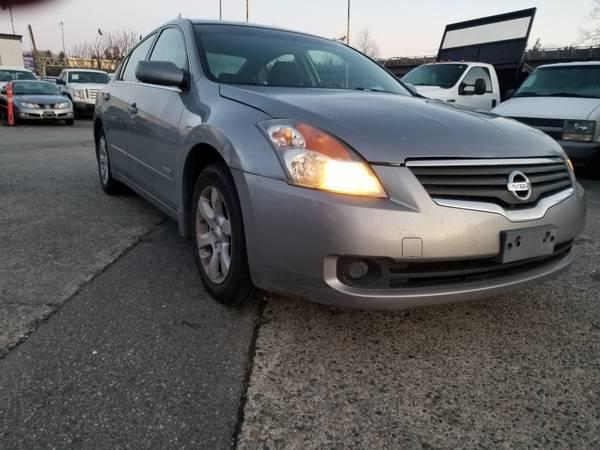Front_Bumper: (227, 159, 583, 303)
Front_Fender: (176, 74, 288, 224)
Front_Right_Door: (130, 84, 187, 215)
Front_Right_Window: (135, 27, 186, 96)
Front_Windshield: (189, 22, 417, 97)
Grille: (403, 154, 574, 221)
Hood: (221, 82, 569, 161)
Rear_Right_Door: (97, 81, 137, 185)
Rear_Right_Window: (112, 33, 159, 84)
Right_Headlight: (257, 115, 391, 197)
Roof: (153, 21, 204, 87)
Wheel: (185, 161, 243, 295), (95, 138, 110, 189)
